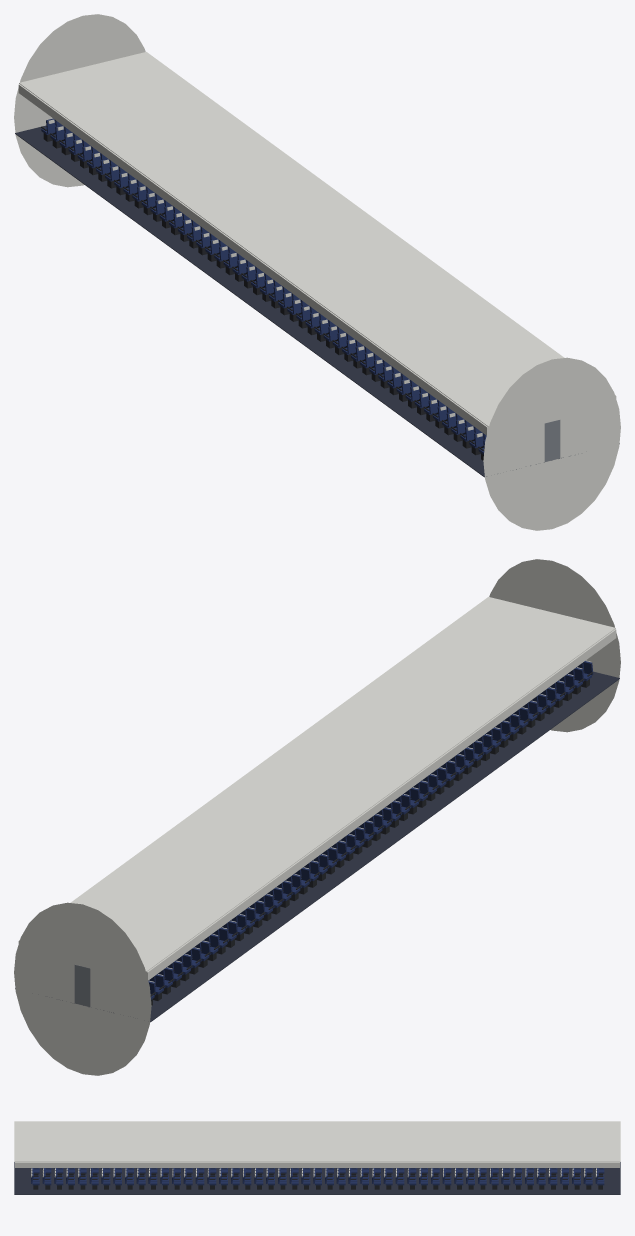
The model's file is lat_a380_cabin.dae.
3 views of the same model, one above another, from view 1: azimuth 30°, elevation 25°; view 2: azimuth 150°, elevation 25°; view 3: azimuth 270°, elevation 25° (orthographic). The views are drawn at different scales.
Visible parts, largest first — view 1: lat_a380_cabin64; view 2: lat_a380_cabin64; view 3: lat_a380_cabin64.
Boxes of the visible parts, x1=… form: lat_a380_cabin64: x1=14, y1=14, x2=620, y2=530; lat_a380_cabin64: x1=14, y1=559, x2=620, y2=1075; lat_a380_cabin64: x1=14, y1=1121, x2=620, y2=1194.
Bounding box in the file's own units: 7.06 × 41.79 × 8.34.
